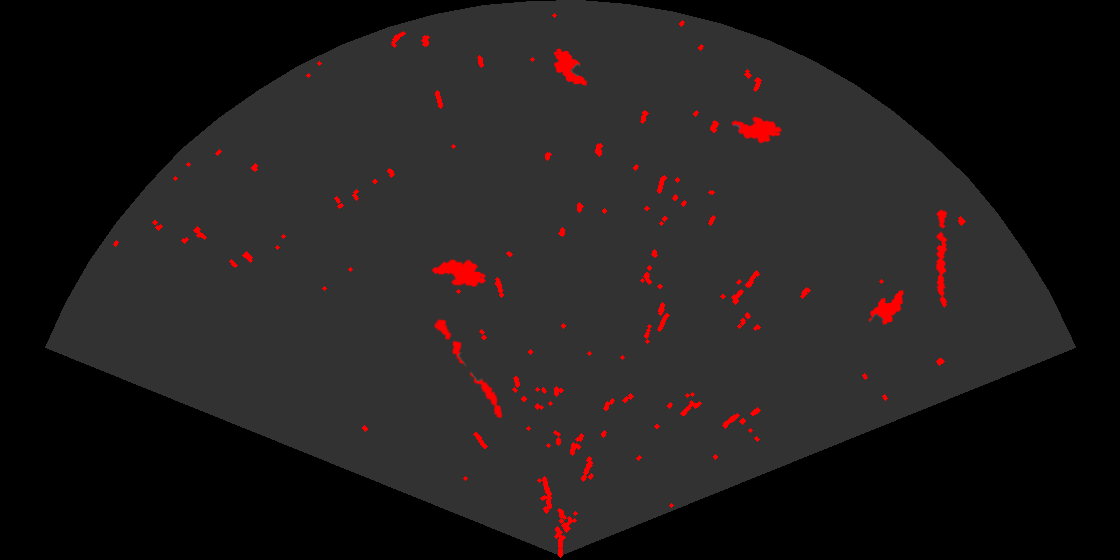AUV: (430, 258, 488, 288), (730, 115, 784, 145), (552, 47, 589, 87), (867, 288, 905, 326)
chain: (432, 317, 504, 420), (935, 208, 949, 309)
